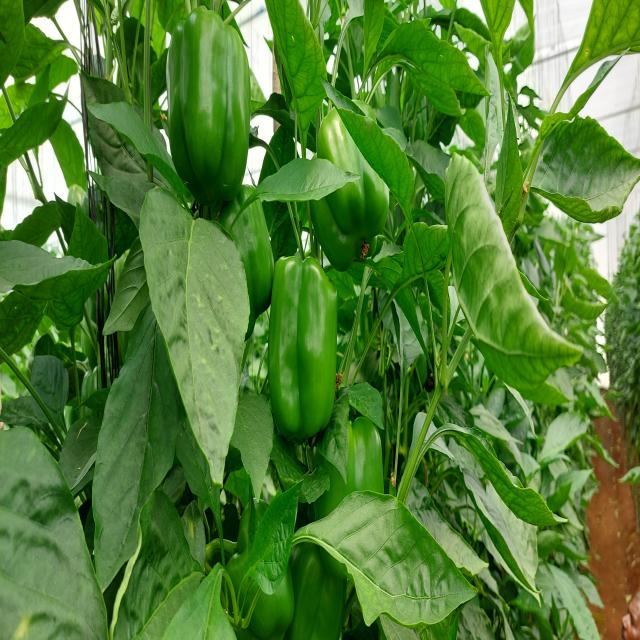Green--Not-ready-to-harvest: (167, 7, 251, 202), (300, 394, 389, 564), (312, 108, 392, 272), (198, 175, 276, 342), (274, 248, 339, 437), (231, 511, 291, 640), (297, 520, 356, 640)
